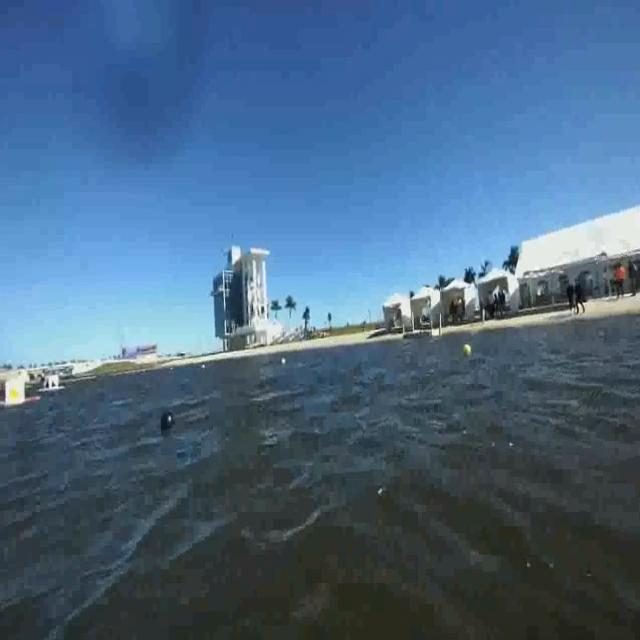black-buoy: (161, 410, 174, 434)
yellow-buoy: (462, 342, 472, 358)
